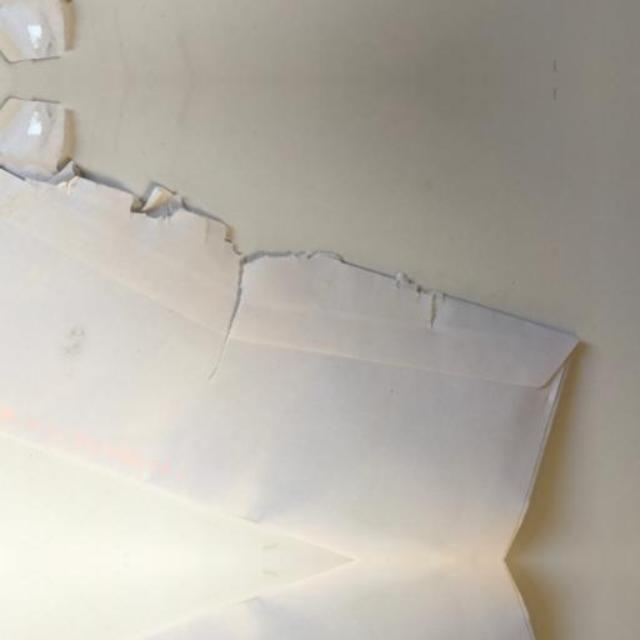paper: (0, 95, 576, 559), (0, 561, 576, 640), (0, 0, 576, 65)
